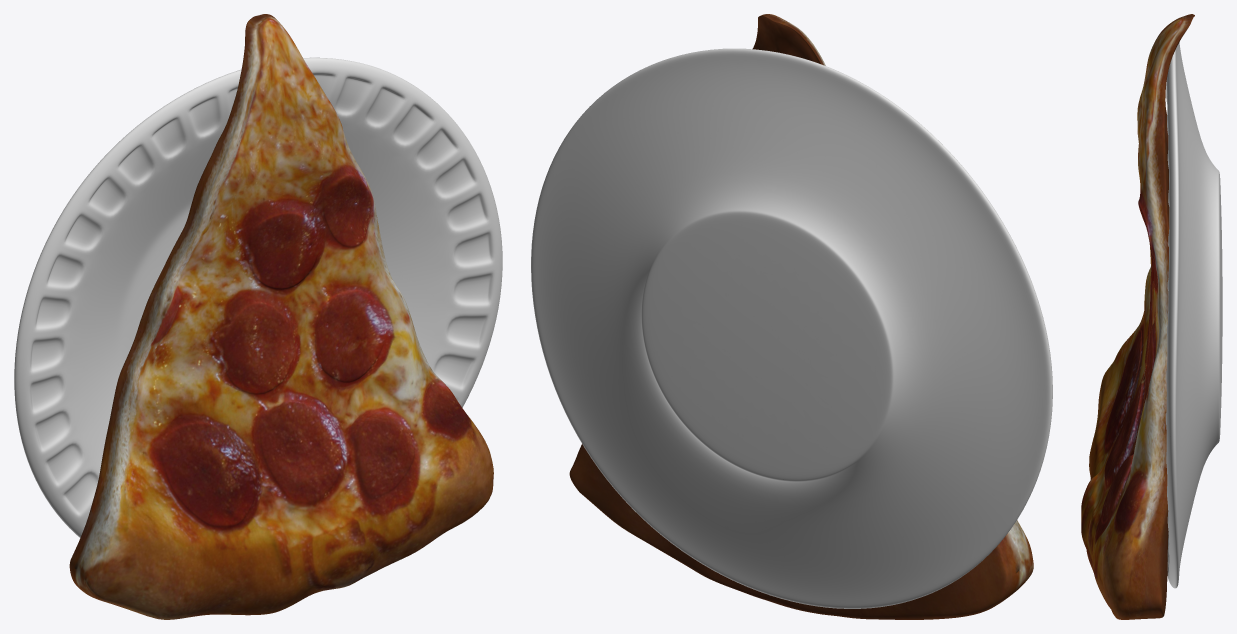
The model's file is pizza.fbx.
3 views of the same model, side by side, from view 1: azimuth 30°, elevation 25°; view 2: azimuth 150°, elevation 25°; view 3: azimuth 270°, elevation 25° (orthographic). The views are drawn at different scales.
Visible parts, largest first — view 1: 13917_Pepperoni_v2, plate; view 2: plate, 13917_Pepperoni_v2; view 3: 13917_Pepperoni_v2, plate.
Boxes of the visible parts, left/top/right/bottom form: 13917_Pepperoni_v2: left=69, top=14, right=493, bottom=619; plate: left=14, top=57, right=502, bottom=537; plate: left=531, top=48, right=1052, bottom=608; 13917_Pepperoni_v2: left=569, top=14, right=1033, bottom=619; 13917_Pepperoni_v2: left=1081, top=14, right=1194, bottom=619; plate: left=1166, top=42, right=1222, bottom=588.
Size of the model in its own units: 13 by 14.36 by 3.27.
2 materials, 2 textured.
